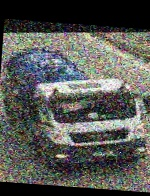truck: (0, 36, 150, 183)
